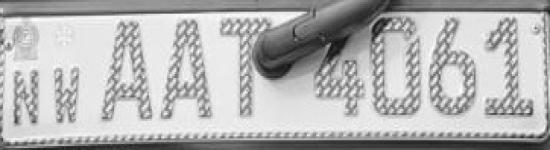0: (368, 13, 424, 121)
1: (481, 12, 540, 129)
4: (312, 27, 367, 120)
6: (428, 13, 480, 126)
A: (157, 16, 219, 126), (96, 17, 158, 125)
N: (11, 64, 46, 130)
T: (216, 16, 276, 126)
W: (50, 58, 88, 128)
